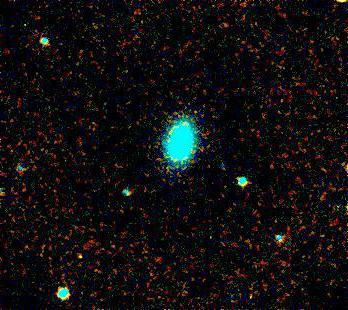star: (65, 246, 95, 276)
